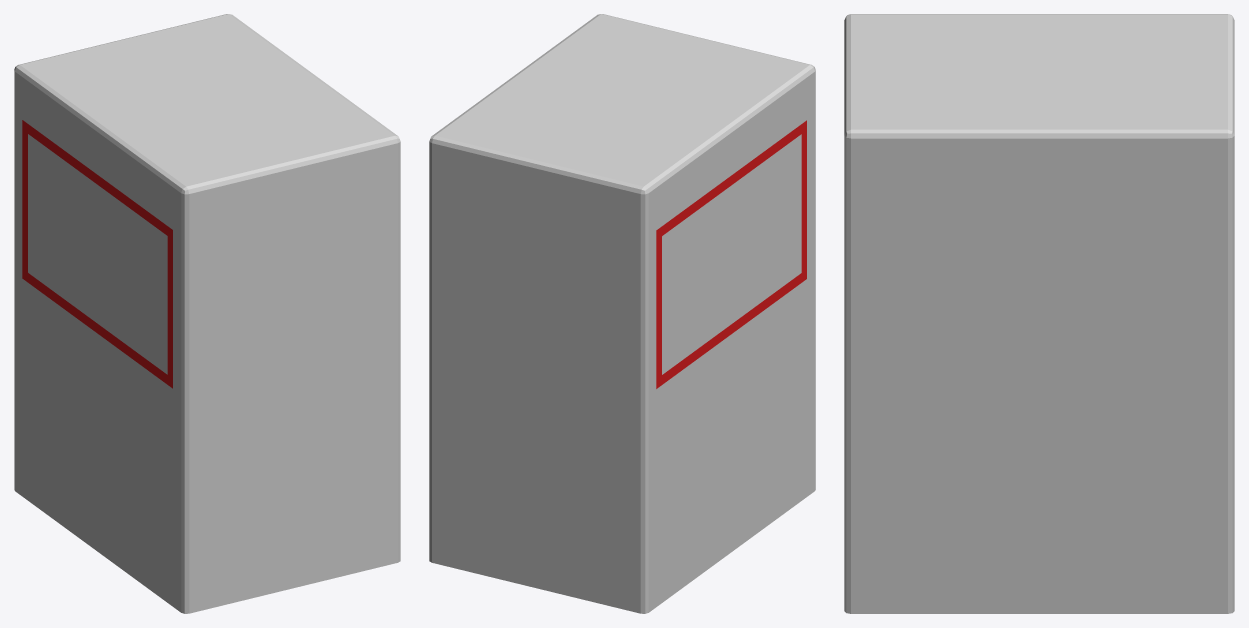
The model's file is distributeurouge.fbx.
3 views of the same model, side by side, from view 1: azimuth 30°, elevation 25°; view 2: azimuth 150°, elevation 25°; view 3: azimuth 270°, elevation 25° (orthographic). The views are drawn at different scales.
Parts seen in each view (by area): view 1: Cube; view 2: Cube; view 3: Cube.
Boxes of the visible parts, <box> form: Cube: <box>14,14,400,613</box>; Cube: <box>429,14,815,613</box>; Cube: <box>844,14,1234,613</box>.
Bounding box in the file's own units: 1.47 × 2 × 2.72.
